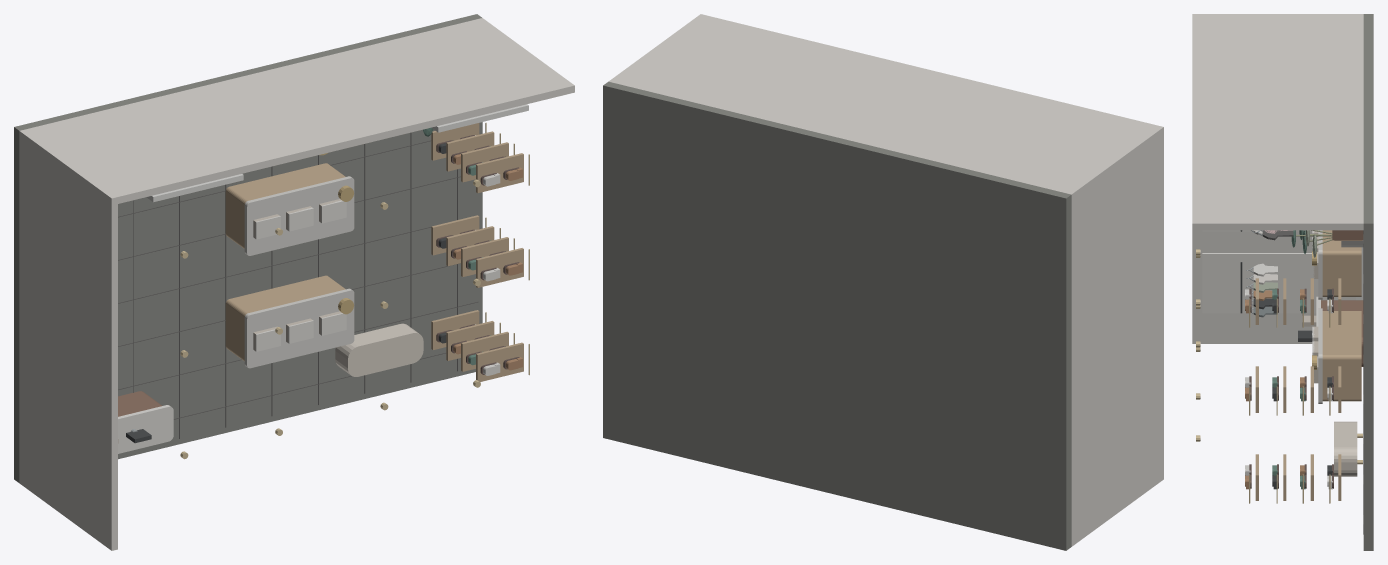
File: 3d-clothing-boutique.glb
3 views of the same model, side by side, from view 1: azimuth 30°, elevation 25°; view 2: azimuth 150°, elevation 25°; view 3: azimuth 270°, elevation 25° (orthographic). The views are drawn at different scales.
Parts seen in each view (by area): view 1: foundation_floor_001, rear_feature_wall_002, left_wall_003, display_marble_top_294, display_marble_top_303, try_on_bench_316, central_display_island_293, central_display_island_302, checkout_counter_stone_312, floating_shoe_wall_shelf_218, floating_shoe_wall_shelf_250, floating_shoe_wall_shelf_282 (+12 smaller); view 2: foundation_floor_001, rear_feature_wall_002, left_wall_003; view 3: rear_feature_wall_002, left_wall_003, foundation_floor_001, side_wall_display_panel_047, central_display_island_293, central_display_island_302, try_on_bench_316, checkout_desk_base_311, display_marble_top_294, oak_display_cabinet_195, display_marble_top_303, hanger_clothing_garment_069.
Part boxes in pixels (left/top/right/bottom): foundation_floor_001: left=14, top=14, right=482, bottom=482; rear_feature_wall_002: left=19, top=18, right=574, bottom=205; left_wall_003: left=19, top=129, right=117, bottom=550; display_marble_top_294: left=244, top=288, right=354, bottom=368; display_marble_top_303: left=244, top=176, right=354, bottom=255; try_on_bench_316: left=335, top=323, right=423, bottom=376; central_display_island_293: left=225, top=275, right=345, bottom=361; central_display_island_302: left=225, top=163, right=345, bottom=248; checkout_counter_stone_312: left=118, top=405, right=173, bottom=453; floating_shoe_wall_shelf_218: left=476, top=342, right=523, bottom=381; floating_shoe_wall_shelf_250: left=476, top=248, right=523, bottom=287; floating_shoe_wall_shelf_282: left=476, top=153, right=523, bottom=193; foundation_floor_001: left=603, top=81, right=1071, bottom=550; rear_feature_wall_002: left=609, top=14, right=1163, bottom=200; left_wall_003: left=1068, top=125, right=1163, bottom=546; rear_feature_wall_002: left=1192, top=14, right=1363, bottom=230; left_wall_003: left=1192, top=14, right=1362, bottom=343; foundation_floor_001: left=1363, top=14, right=1373, bottom=550; side_wall_display_panel_047: left=1202, top=253, right=1327, bottom=313; central_display_island_293: left=1322, top=311, right=1361, bottom=401; central_display_island_302: left=1322, top=230, right=1361, bottom=296; try_on_bench_316: left=1334, top=421, right=1357, bottom=476; checkout_desk_base_311: left=1321, top=300, right=1363, bottom=366; display_marble_top_294: left=1318, top=308, right=1322, bottom=403; oak_display_cabinet_195: left=1332, top=230, right=1363, bottom=240; display_marble_top_303: left=1318, top=230, right=1322, bottom=299; hanger_clothing_garment_069: left=1253, top=263, right=1277, bottom=276.
Bounding box in the file's own units: 11 × 8 × 4.02.
